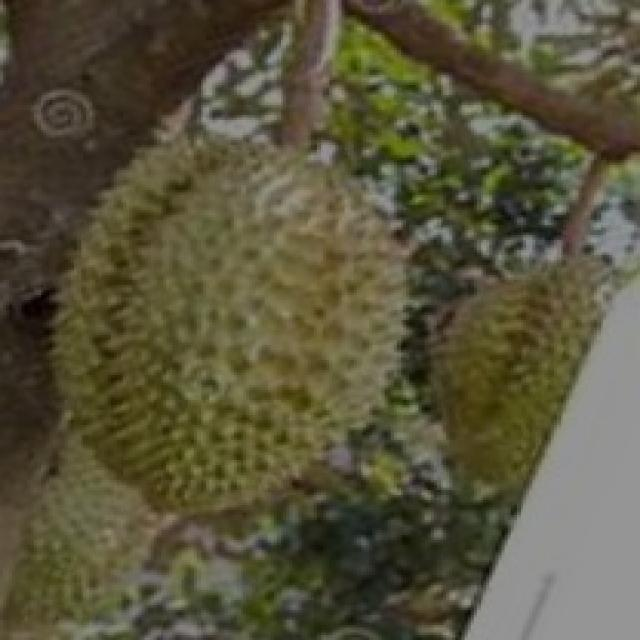fruit: (3, 202, 348, 558), (363, 223, 637, 635)
